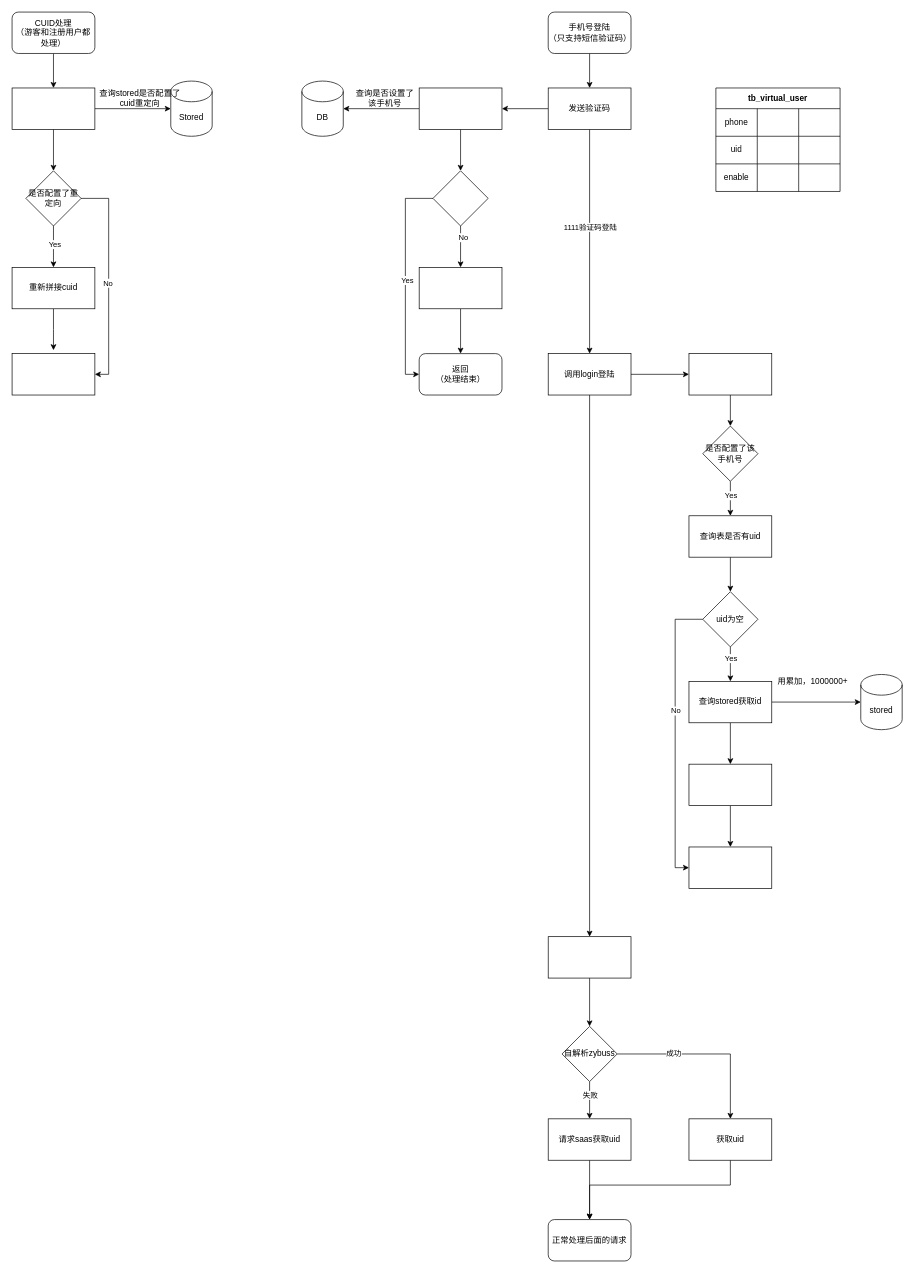
This 914x1273 diagram has some shape labels left out. The shapes that lost their labels are listed below. From the top down, each one's centre as x and y in pixels, then its label:
(53,108): auth.RecordContext
(460,108): 查询是否设置了手机号的配置
(460,198): 设置了手机号
(460,288): 请求saas
(53,374): context.Set cuid
(730,374): 查询数据库是否有该手机号设置
(730,784): 写入数据库
(730,867): 返回zybuss，自己拼装的 能直接解析uid
(589,957): 接口请求
